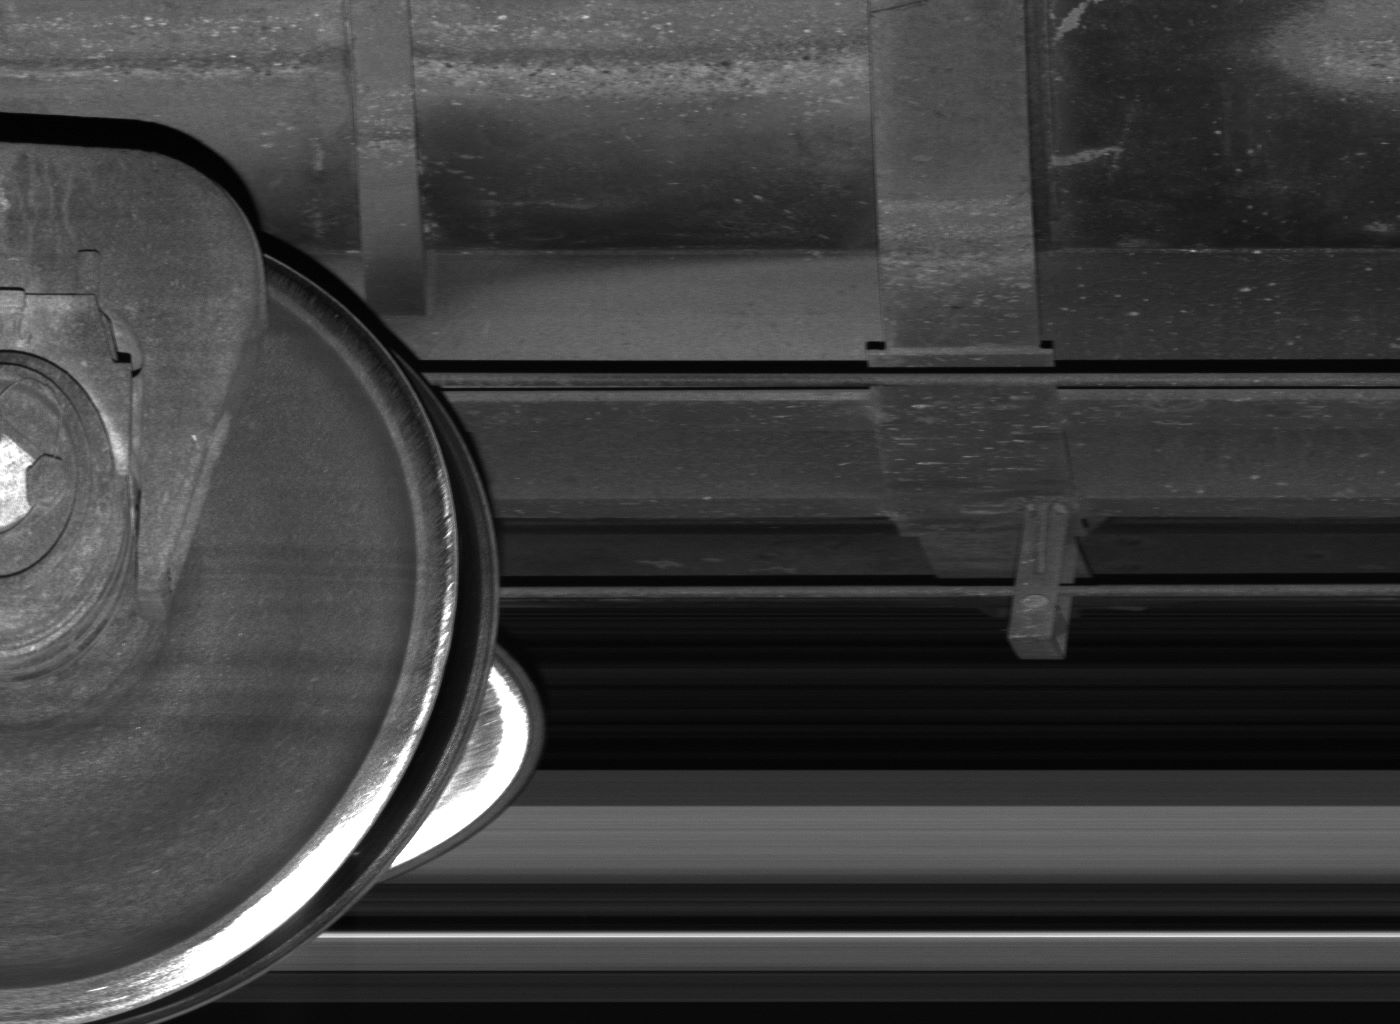normal: (1007, 502, 1079, 658)
